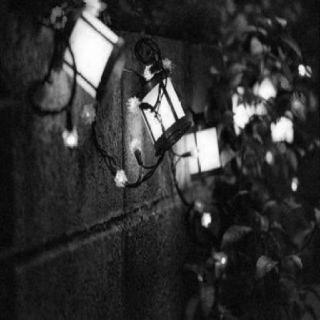other: (134, 77, 194, 145), (70, 28, 119, 88)
